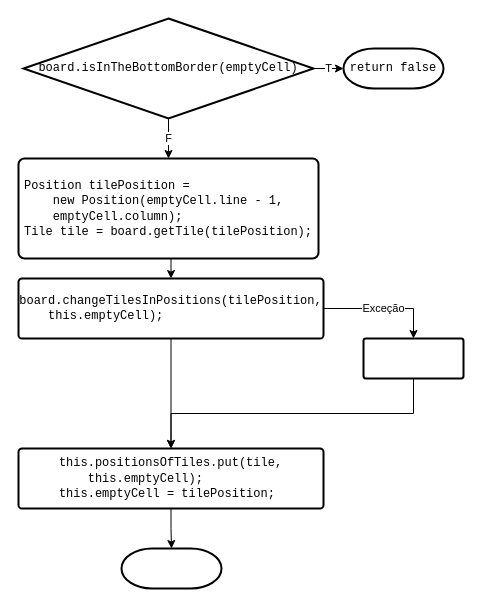
Some shapes in this 481 by 606 pixel diagram are drawn without their labels. The shapes that lost their labels are listed below. From the top down, each one's centre as x and y in pixels, then its label:
At (413,358): "<VAZIO>".
At (171,568): "return true".
